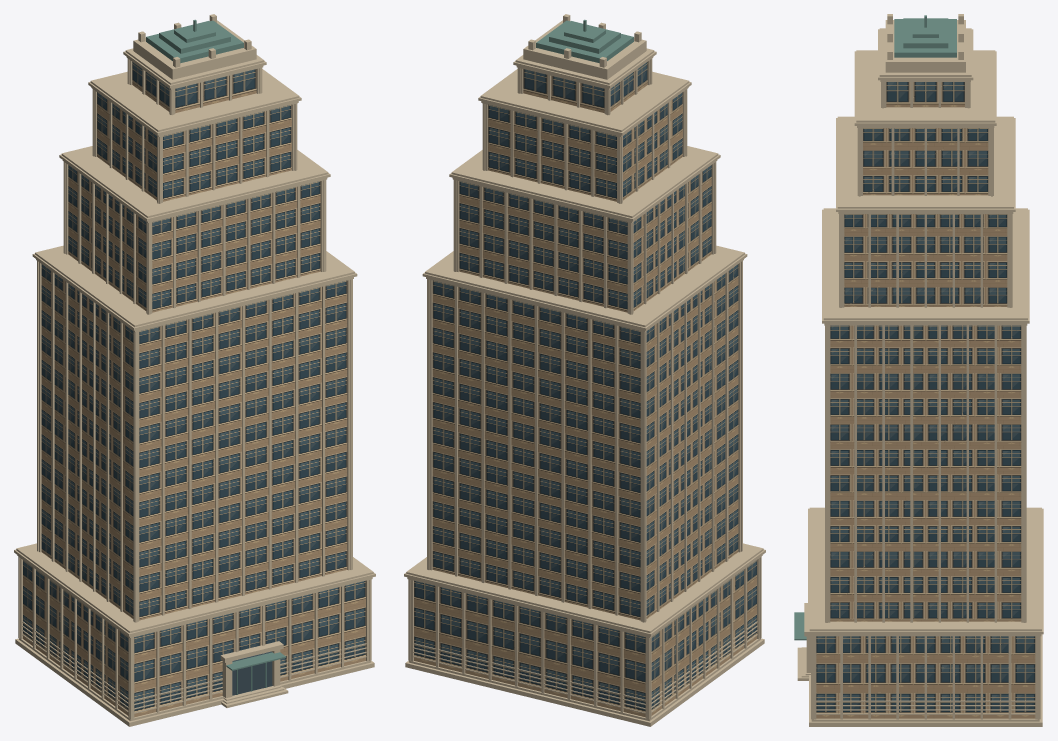
The model's file is heritage-tower-01.glb.
3 views of the same model, side by side, from view 1: azimuth 30°, elevation 25°; view 2: azimuth 150°, elevation 25°; view 3: azimuth 270°, elevation 25° (orthographic). The views are drawn at different scales.
Visible parts, largest first — view 1: Terracotta window bays, Warm carved limestone, Aged copper and bronze, Recessed entrance glazing; view 2: Terracotta window bays, Warm carved limestone, Aged copper and bronze; view 3: Terracotta window bays, Warm carved limestone, Aged copper and bronze.
Boxes of the visible parts, left/top/right/bottom form: Terracotta window bays: left=23, top=62, right=365, bottom=717; Warm carved limestone: left=14, top=14, right=375, bottom=726; Aged copper and bronze: left=146, top=19, right=285, bottom=694; Recessed entrance glazing: left=232, top=651, right=272, bottom=695; Terracotta window bays: left=414, top=62, right=756, bottom=717; Warm carved limestone: left=404, top=14, right=765, bottom=726; Aged copper and bronze: left=536, top=19, right=633, bottom=63; Terracotta window bays: left=816, top=82, right=1035, bottom=718; Warm carved limestone: left=797, top=14, right=1043, bottom=726; Aged copper and bronze: left=794, top=15, right=956, bottom=640.
Size of the model in its own units: 31.2 by 76.7 by 26.65.
Materials: 4 (1 with a texture image).
